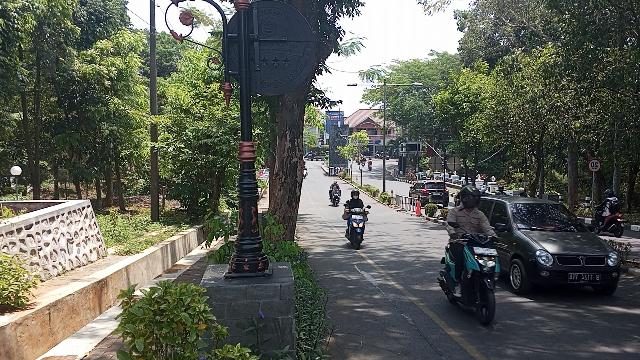helm: (463, 187, 482, 209), (606, 190, 615, 198), (352, 192, 360, 201)
motor: (438, 235, 509, 328), (346, 210, 371, 251), (595, 213, 623, 237)
